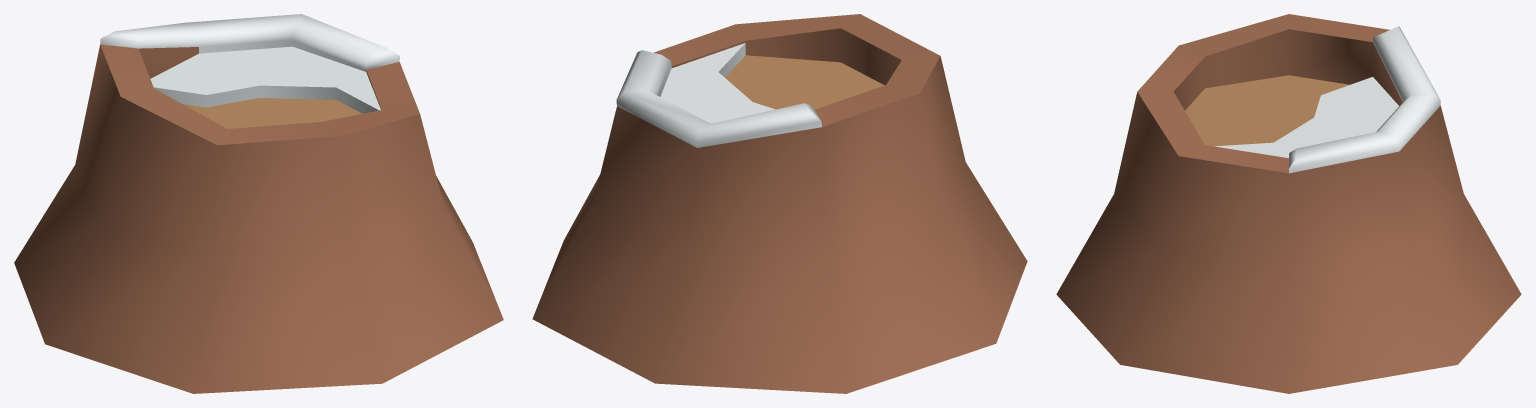
Rendered from Stump.fbx.
The picture shows the model from 3 angles, left to right: view 1: azimuth 30°, elevation 25°; view 2: azimuth 150°, elevation 25°; view 3: azimuth 270°, elevation 25°; orthographic projection. The views are drawn at different scales.
Visible parts, largest first — view 1: Stump; view 2: Stump; view 3: Stump.
Part boxes in pixels (x1,y1,x2,y2): Stump: (14, 14, 503, 393); Stump: (532, 14, 1027, 393); Stump: (1056, 14, 1521, 393).
Size of the model in its own units: 222 by 120 by 222.
